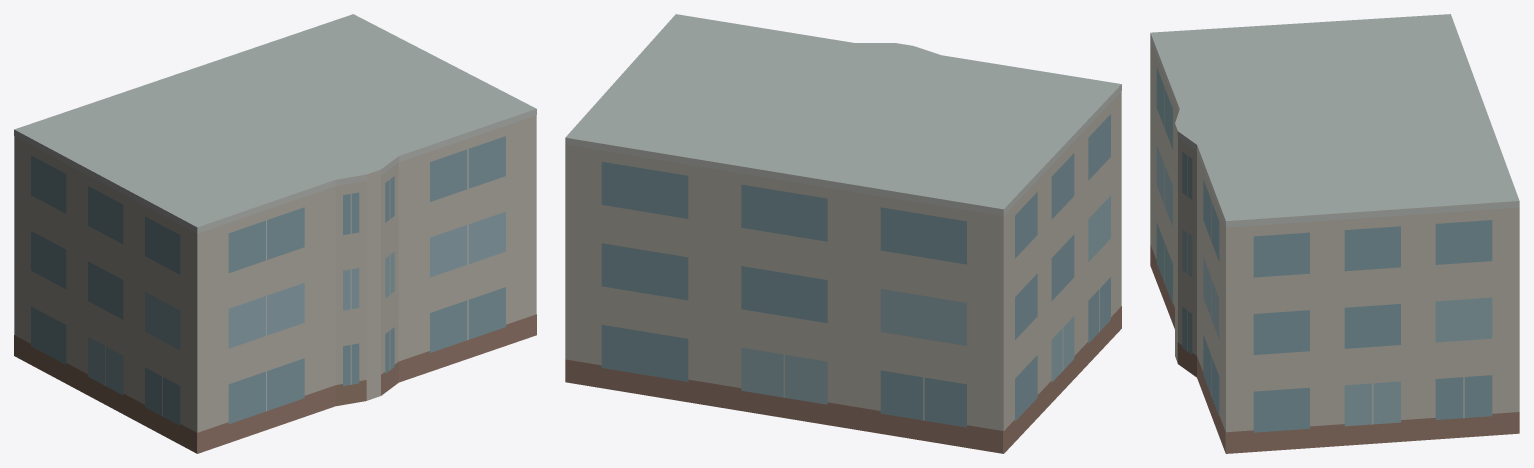
Rendered from survey-upis-32882730.glb.
3 renders of one model, left to right at view 1: azimuth 30°, elevation 25°; view 2: azimuth 150°, elevation 25°; view 3: azimuth 270°, elevation 25°, orthographic. The views are drawn at different scales.
Parts seen in each view (by area): view 1: survey-upis-32882730.tmp; view 2: survey-upis-32882730.tmp; view 3: survey-upis-32882730.tmp.
Boxes of the visible parts, <box> form: survey-upis-32882730.tmp: <box>14,14,536,453</box>; survey-upis-32882730.tmp: <box>565,14,1121,453</box>; survey-upis-32882730.tmp: <box>1150,14,1519,453</box>.
Bounding box in the file's own units: 16.62 × 8.7 × 12.52.
